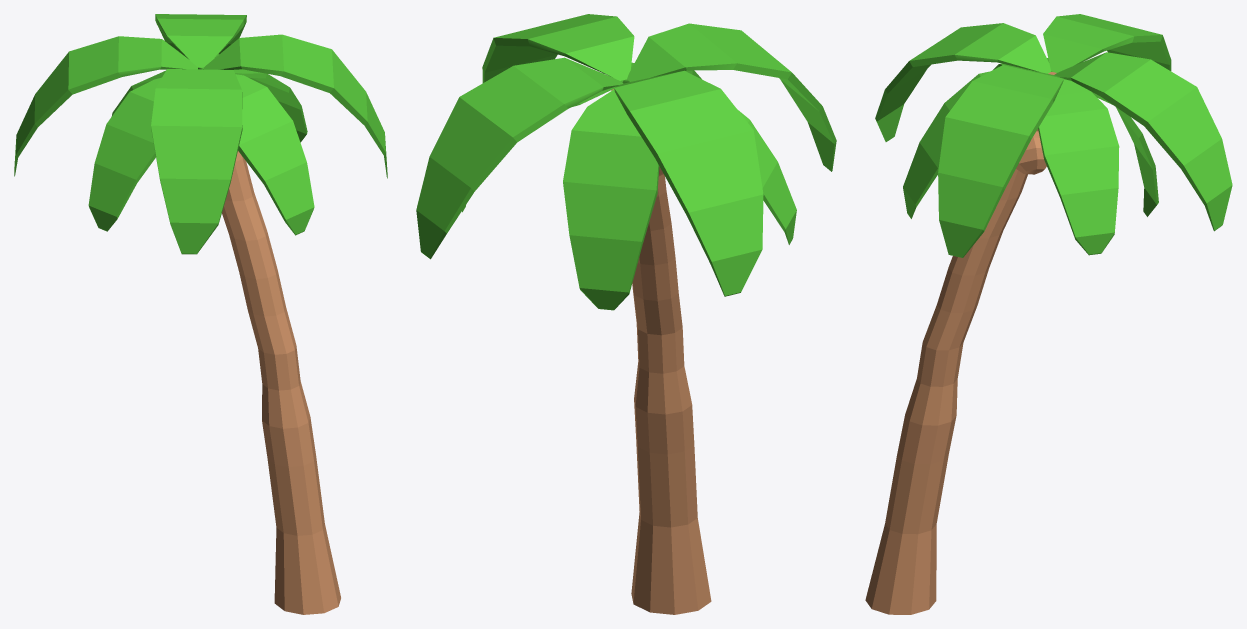
Rendered from Palmera2.fbx.
3 views of the same model, side by side, from view 1: azimuth 30°, elevation 25°; view 2: azimuth 150°, elevation 25°; view 3: azimuth 270°, elevation 25° (orthographic). The views are drawn at different scales.
Visible parts, largest first — view 1: PALM2; view 2: PALM2; view 3: PALM2.
Part boxes in pixels (x1=…): PALM2: x1=14, y1=14, x2=387, y2=614; PALM2: x1=416, y1=14, x2=836, y2=614; PALM2: x1=865, y1=14, x2=1232, y2=614.
Bounding box in the file's own units: 1.66 × 2.67 × 1.69.
